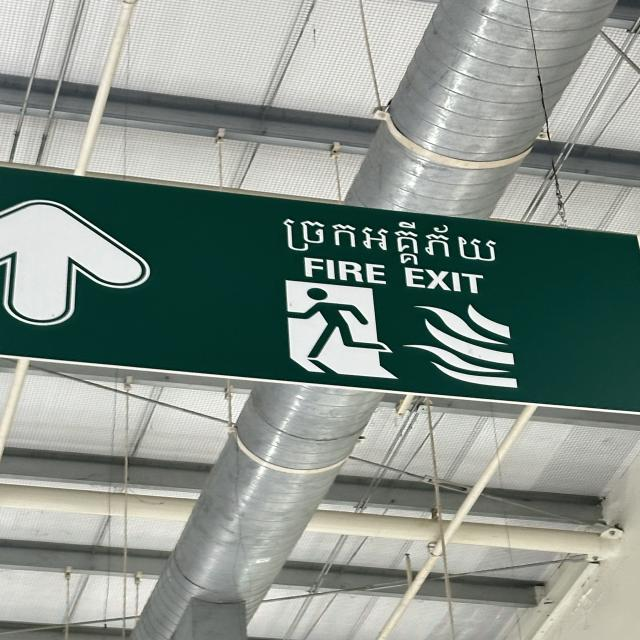Yolov11_80vkh: (254, 203, 509, 271)
